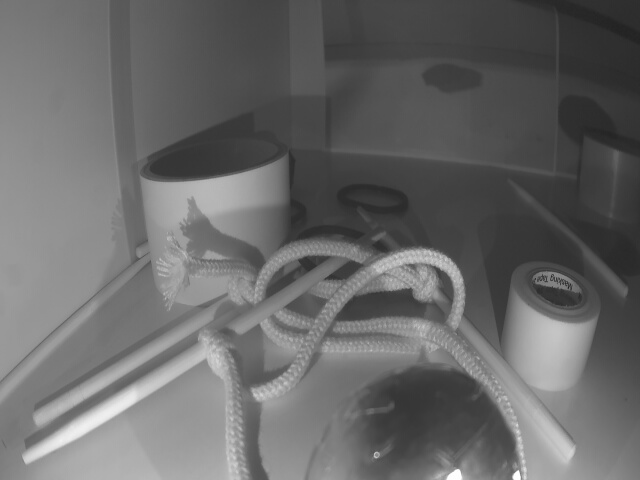Live: (318, 357, 523, 480)
